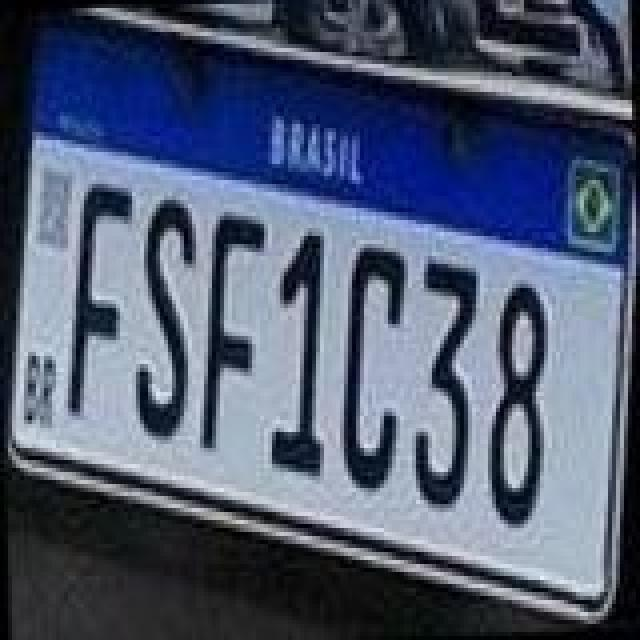1: (262, 226, 338, 478)
3: (406, 254, 490, 514)
8: (482, 282, 558, 534)
C: (334, 240, 418, 496)
F: (58, 178, 142, 422), (190, 212, 274, 452)
S: (130, 198, 206, 442)
